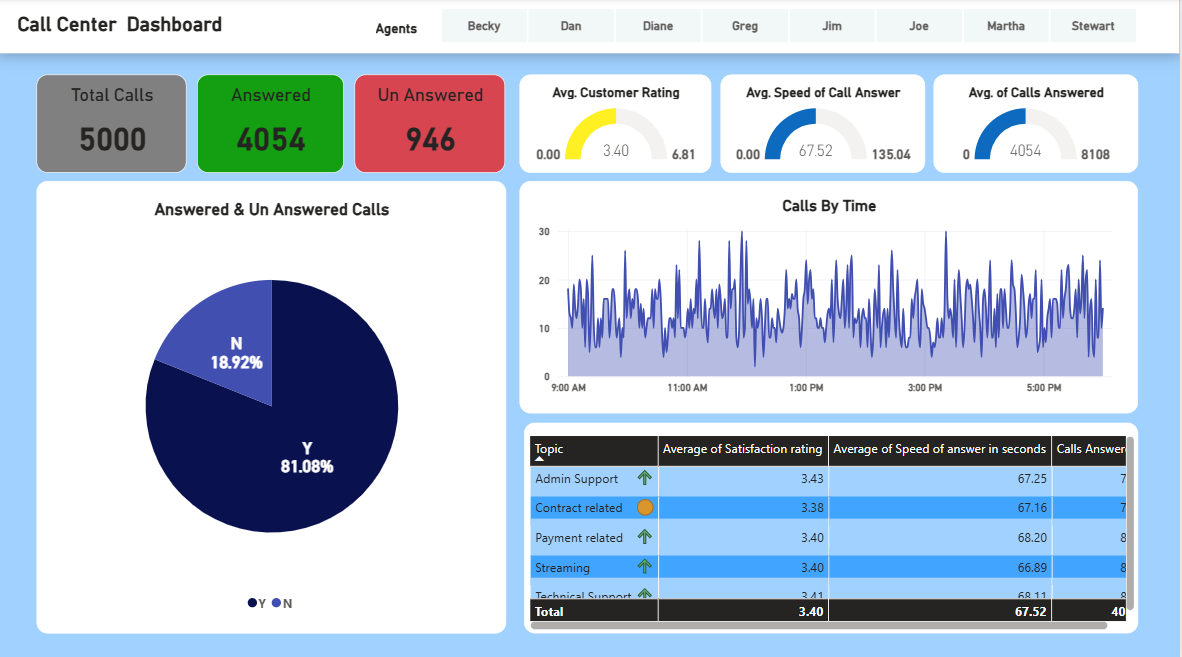

Layout of this report page (visuals, bound fields, positions):
{"tool":"powerbi","page":{"name":"Report","canvas":[1280,720],"ordinal":0},"visuals":[{"type":"card","title":"Total Calls","fields":{"Values":["Sheet1.Answered (Y/N)"]},"box":[40,82.7,162.7,106.4],"z":0},{"type":"textbox","box":[0,0,1280,60],"z":1000},{"type":"card","title":"Answered","fields":{"Values":["Sheet1.Calls Answered"]},"box":[214.5,82.7,159.1,106.4],"z":2000},{"type":"pieChart","title":"Answered & Un Answered Calls","fields":{"Y":["Sheet1.Answered (Y/N)"],"Category":["Sheet1.Answered (Y/N)"]},"box":[40,198.2,509.1,490.9],"z":3000},{"type":"areaChart","title":" Calls By Time","fields":{"Y":["Sheet1.Call Id"],"Category":["Sheet1.Time"]},"box":[564.5,199.1,670.9,251.8],"z":4000},{"type":"tableEx","fields":{"Values":["Sheet1.Topic","Sheet1.Satisfaction rating","Sheet1.Speed of answer in seconds","Sheet1.Calls Answered"]},"box":[569.1,459.7,666.3,228.9],"z":5000},{"type":"gauge","title":"Avg. Customer Rating","fields":{"Y":["Sheet1.Satisfaction rating"]},"box":[564.5,82.7,208.2,106.4],"z":6000},{"type":"gauge","title":"Avg. Speed of Call Answer","fields":{"Y":["Sheet1.Speed of answer in seconds"]},"box":[781.8,82.7,221.8,106.4],"z":7000},{"type":"card","title":"Un Answered","fields":{"Values":["Sheet1.Call Unanswered"]},"box":[385.5,82.7,163.6,106.4],"z":8000},{"type":"gauge","title":"Avg. of Calls Answered","fields":{"Y":["Data.Calls Answered"]},"box":[1013.6,82.7,221.8,106.4],"z":9000},{"type":"slicer","title":"Agents","fields":{"Values":["Sheet1.Agent"]},"box":[448.2,0,812.7,60],"z":10000},{"type":"textbox","box":[402.7,17.3,145.5,63.6],"z":11000}]}

Visuals, with their boxes in screenshot pixels (x1, y1, x2, y2), scaled from the page's 1280x720 canvas onto the 1182x657 screenshot:
"Total Calls" card: left=37, top=75, right=187, bottom=173
textbox: left=0, top=0, right=1181, bottom=55
"Answered" card: left=198, top=75, right=345, bottom=173
"Answered & Un Answered Calls" pieChart: left=37, top=181, right=507, bottom=629
" Calls By Time" areaChart: left=521, top=182, right=1141, bottom=411
tableEx - Sheet1.Topic x Sheet1.Satisfaction rating: left=526, top=419, right=1141, bottom=628
"Avg. Customer Rating" gauge: left=521, top=75, right=714, bottom=173
"Avg. Speed of Call Answer" gauge: left=722, top=75, right=927, bottom=173
"Un Answered" card: left=356, top=75, right=507, bottom=173
"Avg. of Calls Answered" gauge: left=936, top=75, right=1141, bottom=173
"Agents" slicer: left=414, top=0, right=1164, bottom=55
textbox: left=372, top=16, right=506, bottom=74
